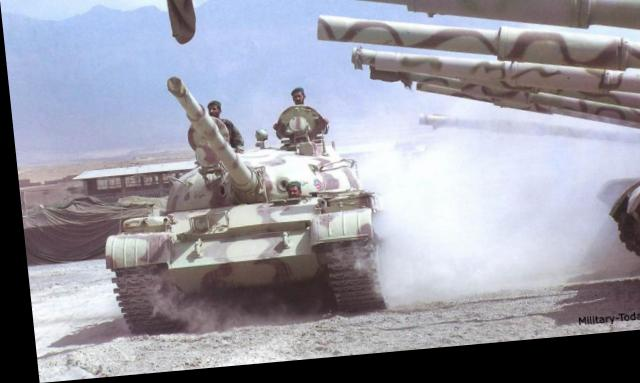other: (198, 99, 239, 149), (279, 90, 311, 119), (280, 183, 298, 209)
tank: (109, 136, 384, 335)
